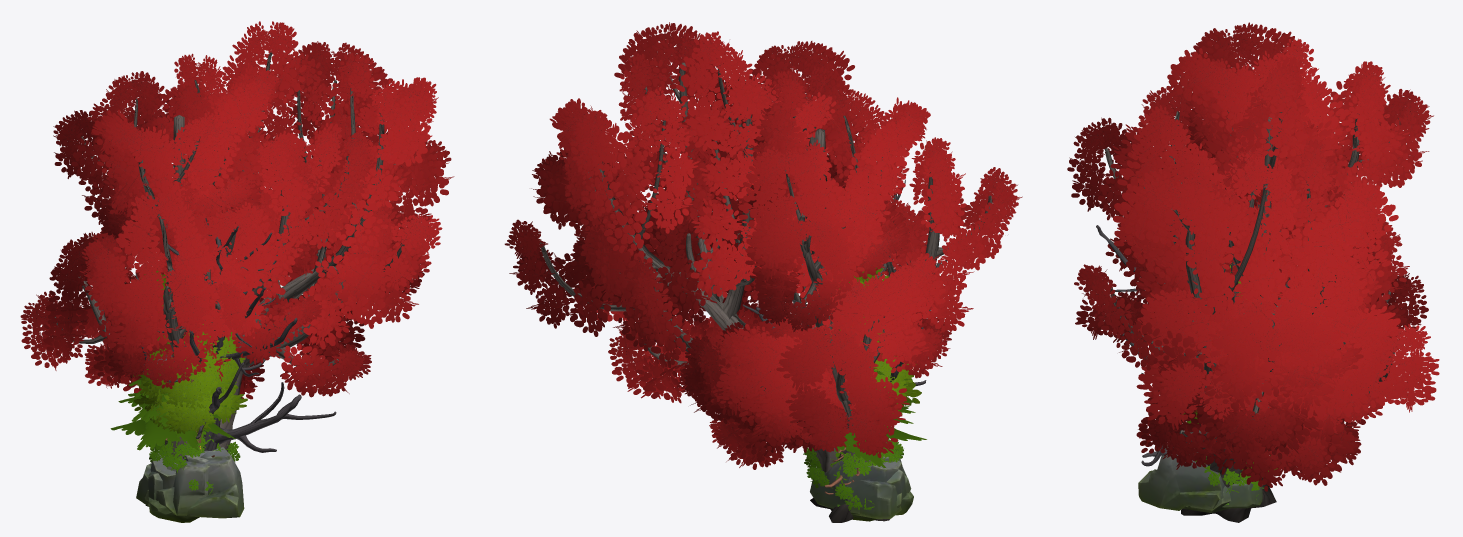
File: nature.glb
3 views of the same model, side by side, from view 1: azimuth 30°, elevation 25°; view 2: azimuth 150°, elevation 25°; view 3: azimuth 270°, elevation 25° (orthographic). The views are drawn at different scales.
Visible parts, largest first — view 1: TwistedTree_3, TwistedTree_1, DeadTree_2, Rock_Medium_3, CommonTree_1, CommonTree_3, Rock_Medium_1, Pine_1, Bush_Large, Rock_Medium_2; view 2: TwistedTree_1, TwistedTree_3, Rock_Medium_2, Bush_Large, Pine_1; view 3: TwistedTree_1, TwistedTree_3, Rock_Medium_3, Rock_Medium_2, DeadTree_2, Bush_Large.
Boxes of the visible parts, <box> form: TwistedTree_3: <box>20,53,376,458</box>; TwistedTree_1: <box>106,21,454,506</box>; DeadTree_2: <box>135,211,336,452</box>; Rock_Medium_3: <box>148,447,244,522</box>; CommonTree_1: <box>133,333,247,433</box>; CommonTree_3: <box>141,270,245,446</box>; Rock_Medium_1: <box>144,450,215,515</box>; Pine_1: <box>110,336,242,457</box>; Bush_Large: <box>149,431,240,494</box>; Rock_Medium_2: <box>136,453,175,506</box>; TwistedTree_1: <box>504,22,927,522</box>; TwistedTree_3: <box>676,41,1022,469</box>; Rock_Medium_2: <box>810,459,902,519</box>; Bush_Large: <box>803,439,903,510</box>; Pine_1: <box>824,340,926,487</box>; TwistedTree_1: <box>1074,56,1439,522</box>; TwistedTree_3: <box>1067,22,1433,479</box>; Rock_Medium_3: <box>1138,445,1224,510</box>; Rock_Medium_2: <box>1222,478,1262,508</box>; DeadTree_2: <box>1096,187,1290,466</box>; Bush_Large: <box>1195,423,1277,500</box>.
Size of the model in its own units: 15.83 by 16.94 by 11.71.
Materials: 13 (13 with a texture image).
